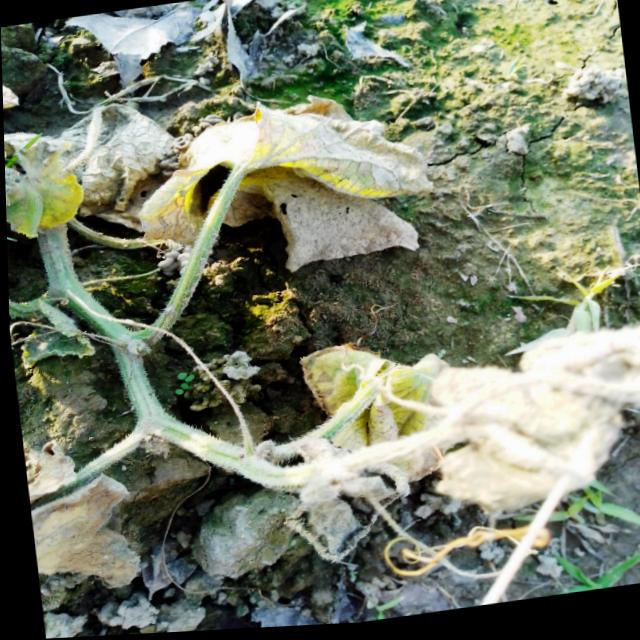Bacterial-Wilt: (138, 96, 433, 275), (26, 437, 136, 590)
